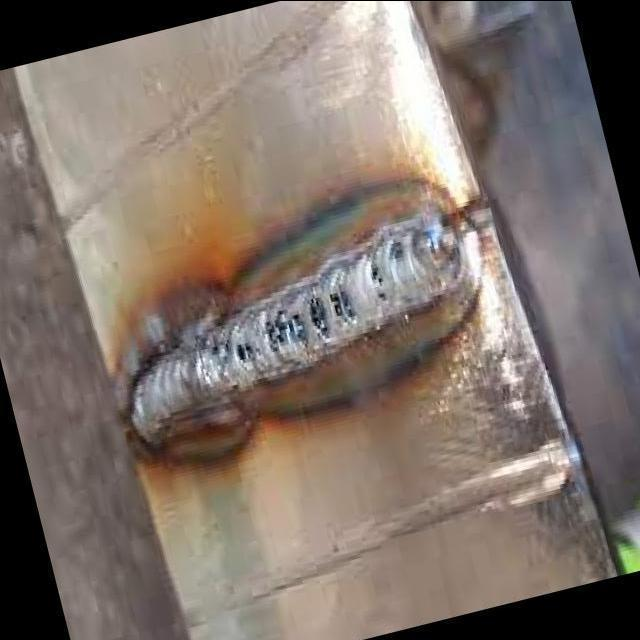defect: (260, 300, 316, 357), (302, 289, 334, 342), (324, 288, 358, 328), (365, 261, 388, 300), (233, 337, 257, 372)
